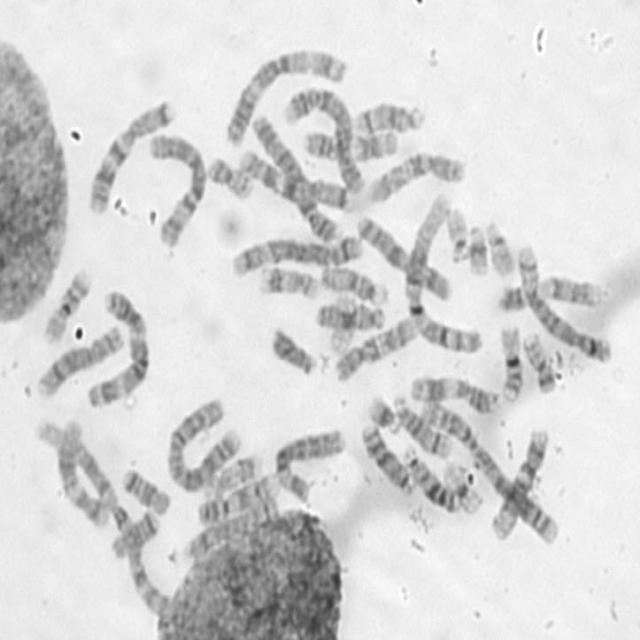A1: (32, 413, 173, 622), (401, 192, 485, 356)
A2: (419, 397, 560, 547), (163, 393, 242, 494)
A3: (220, 46, 349, 149), (83, 284, 151, 409)
B4: (250, 108, 342, 247), (282, 80, 368, 198)
B5: (515, 240, 613, 364), (227, 230, 364, 278)
C10: (332, 312, 421, 384), (364, 148, 466, 206)
C11: (407, 371, 499, 415), (302, 125, 401, 162)
C12: (486, 424, 551, 544), (55, 413, 111, 529)
C6: (145, 128, 208, 250), (272, 424, 347, 504)
C7: (84, 94, 179, 217), (234, 145, 353, 215)
C8: (34, 321, 126, 400), (182, 496, 284, 564)
C9: (194, 466, 281, 526), (492, 272, 602, 314)
D13: (358, 416, 417, 496), (400, 442, 461, 516)
D14: (391, 389, 454, 460), (352, 96, 426, 136)
D15: (317, 260, 389, 307), (312, 299, 386, 332)
E16: (40, 263, 92, 346), (496, 320, 526, 404)
E17: (200, 448, 261, 501), (255, 260, 320, 301)
E18: (106, 503, 160, 562), (118, 465, 172, 514)
F19: (441, 454, 485, 518), (324, 289, 358, 356)
F20: (520, 327, 560, 394), (204, 151, 255, 201)
G21: (363, 389, 404, 436), (464, 221, 490, 278)
G22: (483, 218, 516, 276), (443, 201, 470, 265)
X: (352, 211, 453, 301)
Y: (268, 323, 319, 378)
